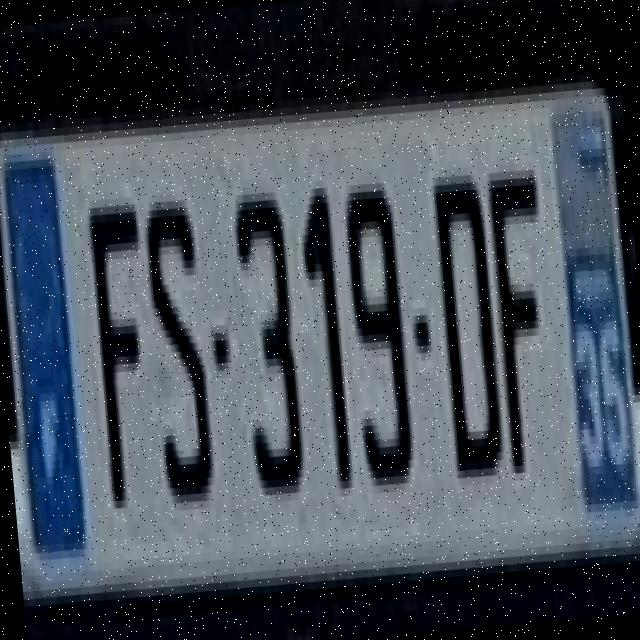EU: (0, 94, 640, 569)
France: (0, 145, 88, 560)
